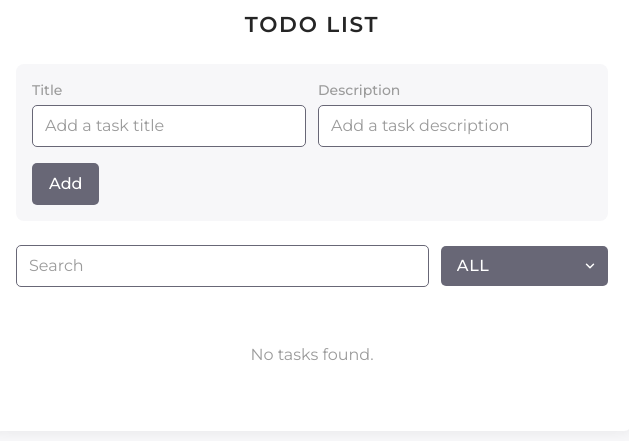
Test case: App › filters tasks by completed status
Type "Buy breakfast" into the field labelled "Title" at (169, 126), box x1=32 y1=105 x2=306 y2=147
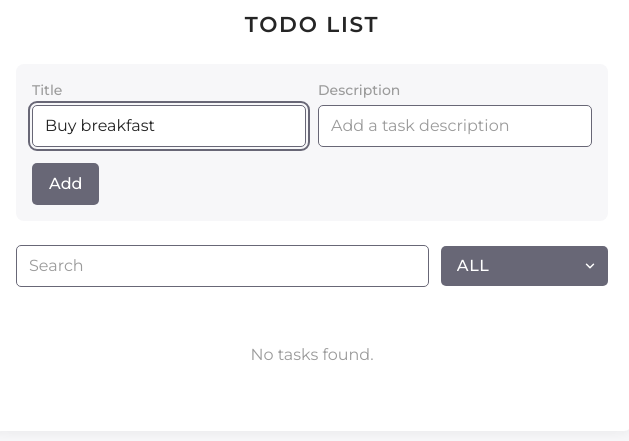
Click the button "Add" at (66, 184), box x1=32 y1=163 x2=100 y2=205
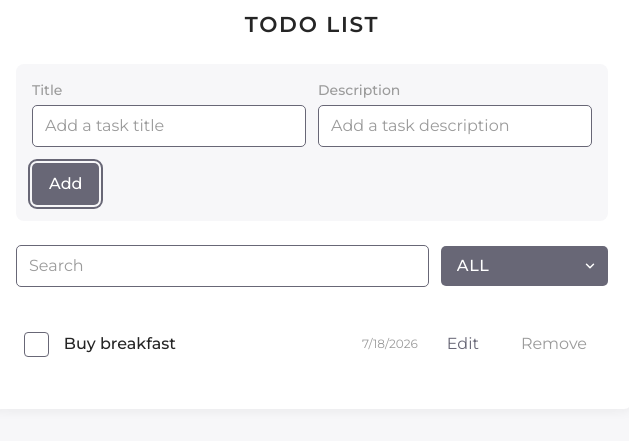
Type "Walk the dog" into the field labelled "Title" at (169, 126), box x1=32 y1=105 x2=306 y2=147
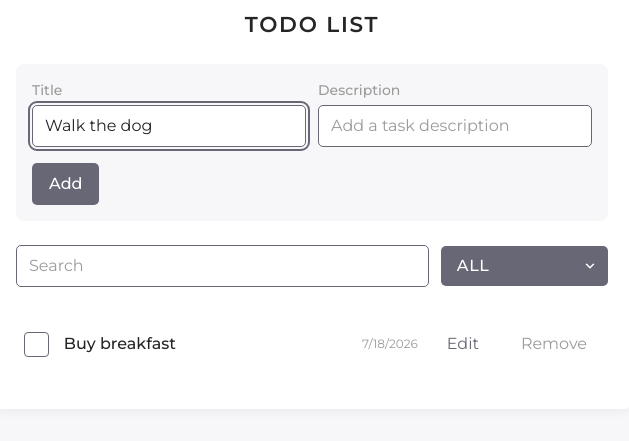
Click the button "Add" at (66, 184), box x1=32 y1=163 x2=100 y2=205
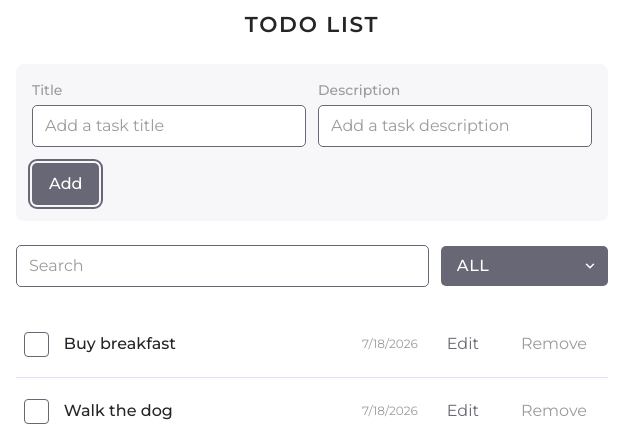
Click the checkbox named "mark buy breakfast as complete" at (36, 344), box x1=24 y1=332 x2=49 y2=357
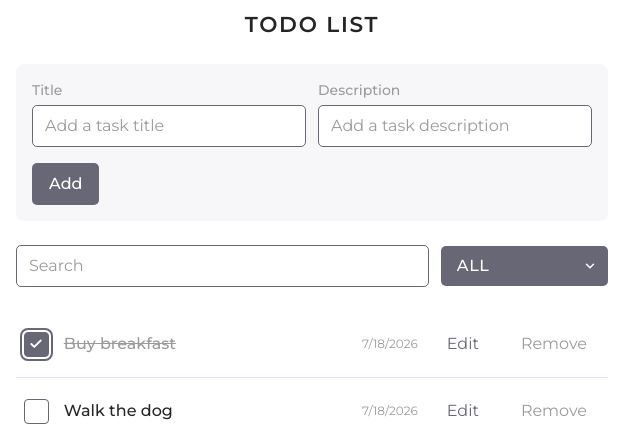
Select "Completed" in the dropdown named "Filter by status" at (524, 266), box x1=441 y1=246 x2=608 y2=286
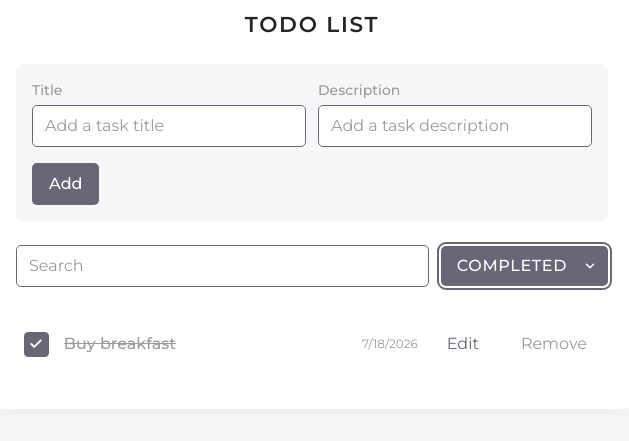
Now the text "Buy breakfast" is shown, box x1=64 y1=334 x2=176 y2=353
Now the text "Walk the dog" is gone
